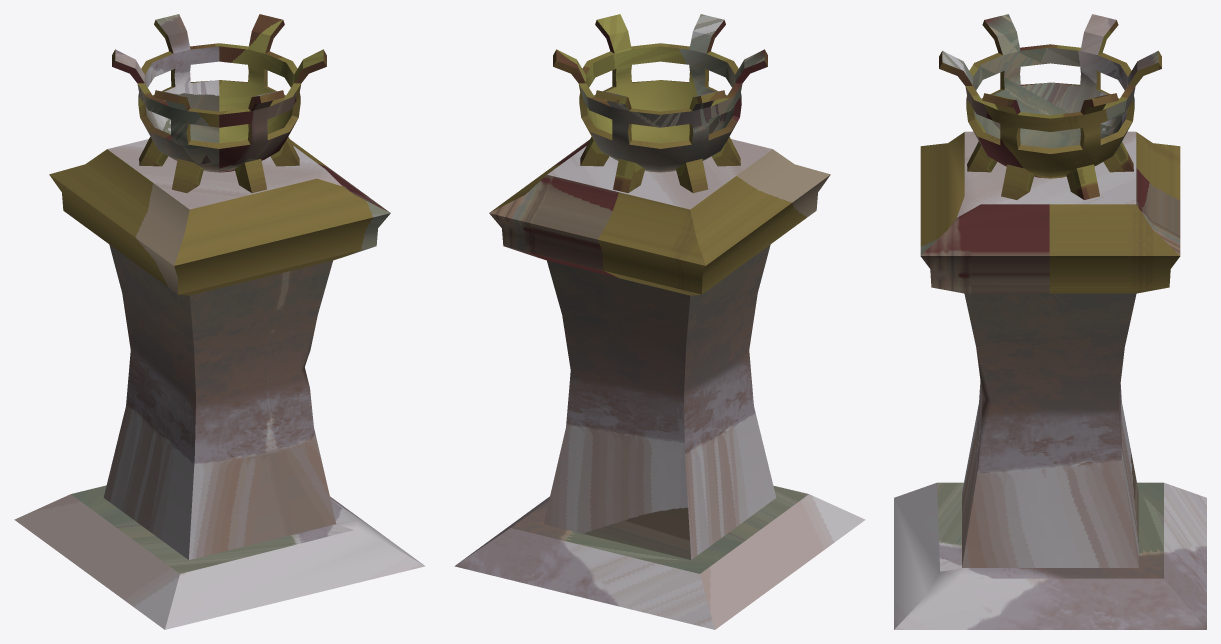
File: Antorcha_Pilar.fbx
3 renders of one model, left to right at view 1: azimuth 30°, elevation 25°; view 2: azimuth 150°, elevation 25°; view 3: azimuth 270°, elevation 25°, orthographic. The views are drawn at different scales.
Visible parts, largest first — view 1: Model_Low1_pCube1; view 2: Model_Low1_pCube1; view 3: Model_Low1_pCube1.
Boxes of the visible parts, bbox=[...] form: Model_Low1_pCube1: bbox=[14, 14, 425, 629]; Model_Low1_pCube1: bbox=[454, 14, 865, 629]; Model_Low1_pCube1: bbox=[894, 14, 1206, 629].
Size of the model in its own units: 1.22 by 2.19 by 1.22.
